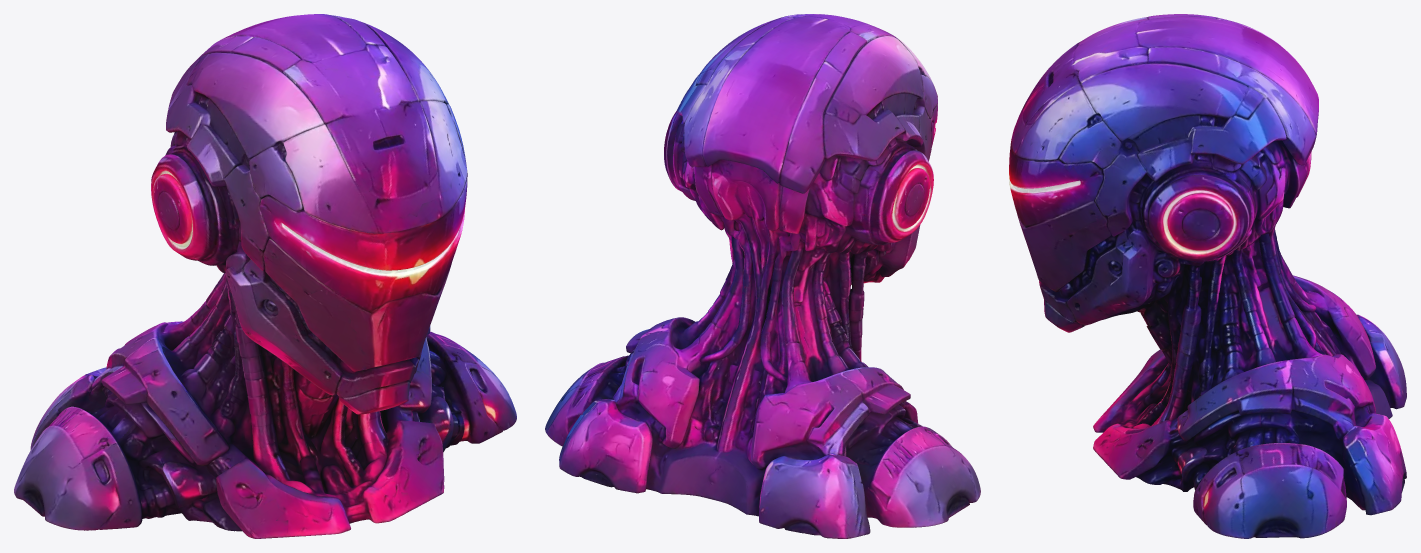
File: robot.glb
3 renders of one model, left to right at view 1: azimuth 30°, elevation 25°; view 2: azimuth 150°, elevation 25°; view 3: azimuth 270°, elevation 25°, orthographic. The views are drawn at different scales.
Parts seen in each view (by area): view 1: model; view 2: model; view 3: model.
Boxes of the visible parts, x1=… form: model: x1=14, y1=14, x2=516, y2=538; model: x1=545, y1=14, x2=980, y2=538; model: x1=1009, y1=14, x2=1406, y2=538.
Size of the model in its own units: 1.9 by 1.79 by 1.58.
1 material, 1 textured.
